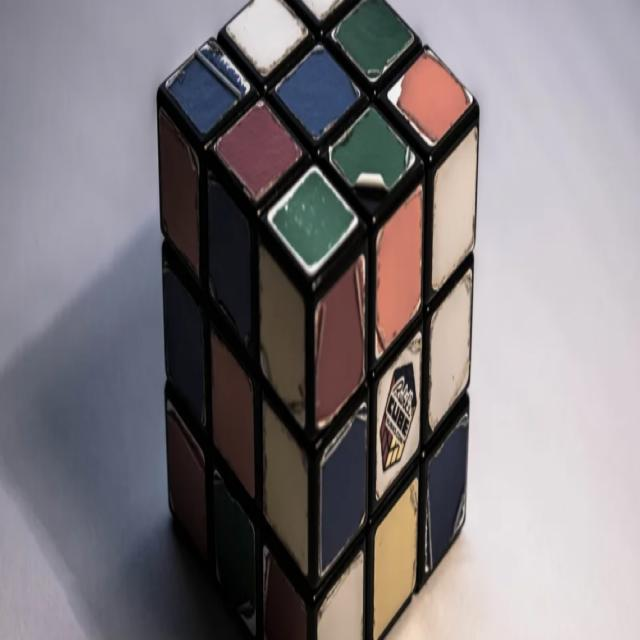Rub: (151, 3, 479, 640)
